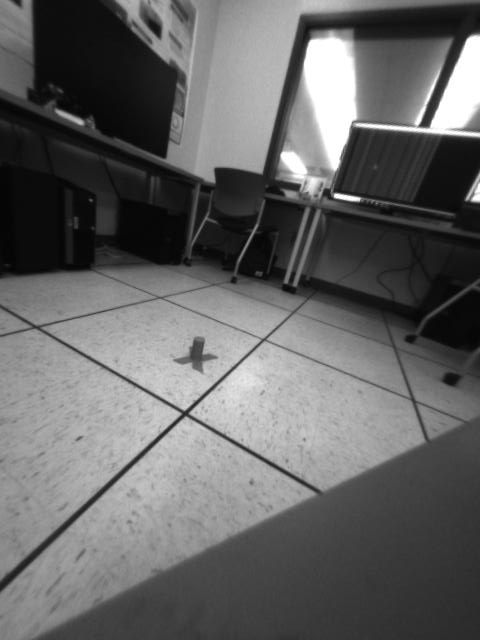X: (173, 337, 218, 374)
